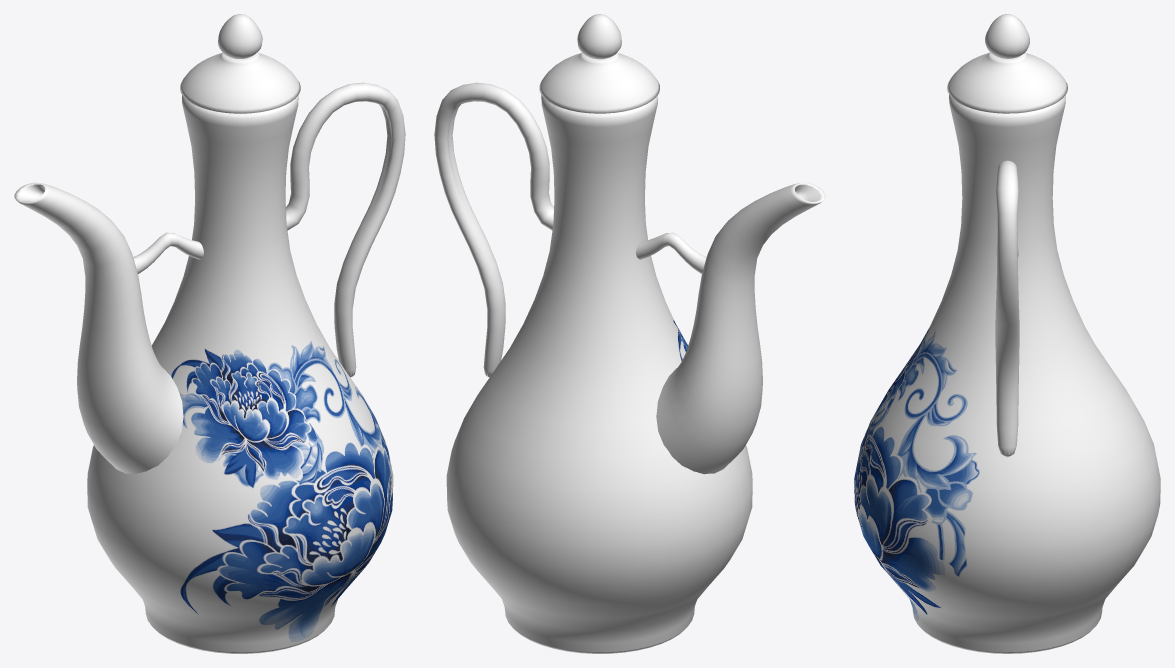
Rendered from QingHuaCi-JiuPing.fbx.
3 views of the same model, side by side, from view 1: azimuth 30°, elevation 25°; view 2: azimuth 150°, elevation 25°; view 3: azimuth 270°, elevation 25° (orthographic).
Visible parts, largest first — view 1: PingShen, PingZui, PingBaShou, PingGai, PingDing, PingZuiLianJie; view 2: PingShen, PingZui, PingBaShou, PingGai, PingDing, PingZuiLianJie; view 3: PingShen, PingBaShou, PingGai, PingDing.
Part boxes in pixels (box(x1,y1,x2,y2)): PingShen: box(87, 95, 393, 653); PingZui: box(14, 182, 183, 474); PingBaShou: box(286, 82, 405, 377); PingGai: box(180, 52, 300, 113); PingDing: box(218, 14, 262, 58); PingZuiLianJie: box(133, 232, 203, 273); PingShen: box(446, 95, 752, 653); PingZui: box(656, 182, 825, 474); PingBaShou: box(434, 82, 553, 377); PingGai: box(539, 52, 659, 113); PingDing: box(577, 14, 621, 59); PingZuiLianJie: box(636, 232, 706, 273); PingShen: box(854, 95, 1160, 653); PingBaShou: box(995, 160, 1019, 457); PingGai: box(947, 52, 1067, 113); PingDing: box(985, 14, 1029, 58).
Bounding box in the file's own units: 18.51 × 27.39 × 12.69.
